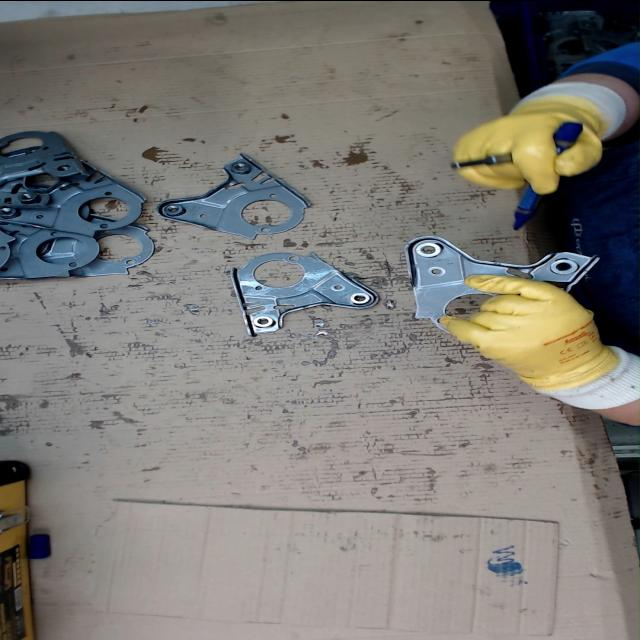hands: (438, 274, 614, 379), (450, 96, 604, 196)
